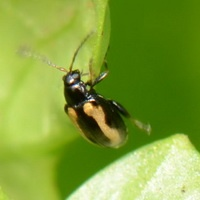insect: (18, 32, 150, 147)
